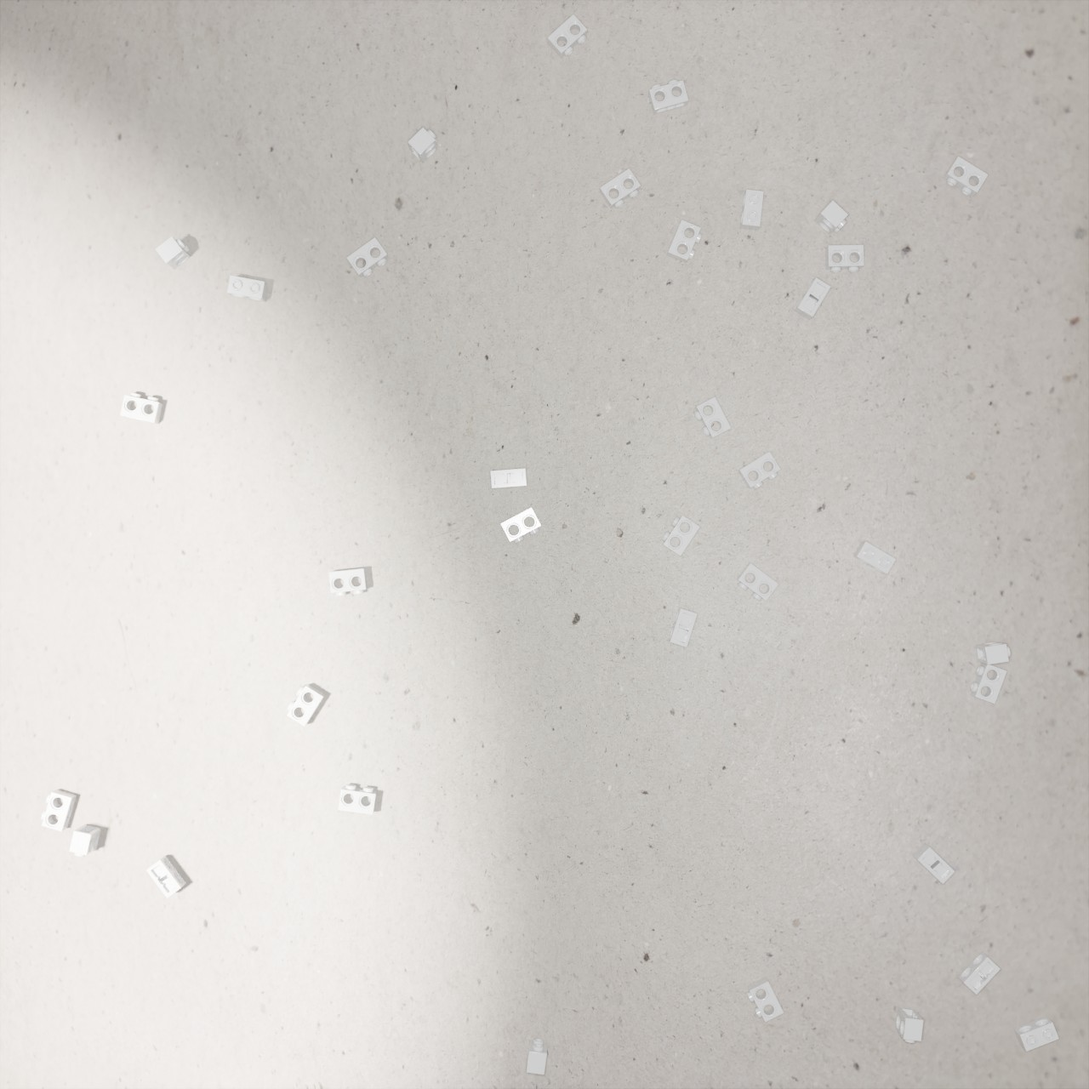lego: (958, 951, 1001, 995), (547, 14, 588, 59), (943, 156, 989, 196), (346, 237, 389, 278), (912, 843, 955, 884), (146, 855, 186, 899), (746, 976, 784, 1022), (599, 168, 641, 209), (736, 563, 779, 602), (287, 684, 326, 727), (737, 451, 781, 489), (1013, 1016, 1059, 1052), (661, 515, 700, 556), (794, 277, 831, 320), (970, 662, 1007, 704), (694, 397, 731, 439), (41, 789, 77, 832), (500, 507, 541, 544), (667, 220, 702, 263), (648, 79, 689, 115), (853, 541, 896, 574), (120, 393, 163, 424), (338, 784, 378, 815), (155, 236, 191, 270), (668, 607, 698, 647), (814, 200, 848, 235), (227, 275, 269, 302), (408, 127, 438, 164), (329, 568, 368, 596), (69, 824, 101, 857), (825, 245, 864, 272), (895, 1007, 924, 1043), (740, 189, 764, 231), (975, 642, 1011, 665), (490, 468, 527, 489), (526, 1038, 547, 1075)
